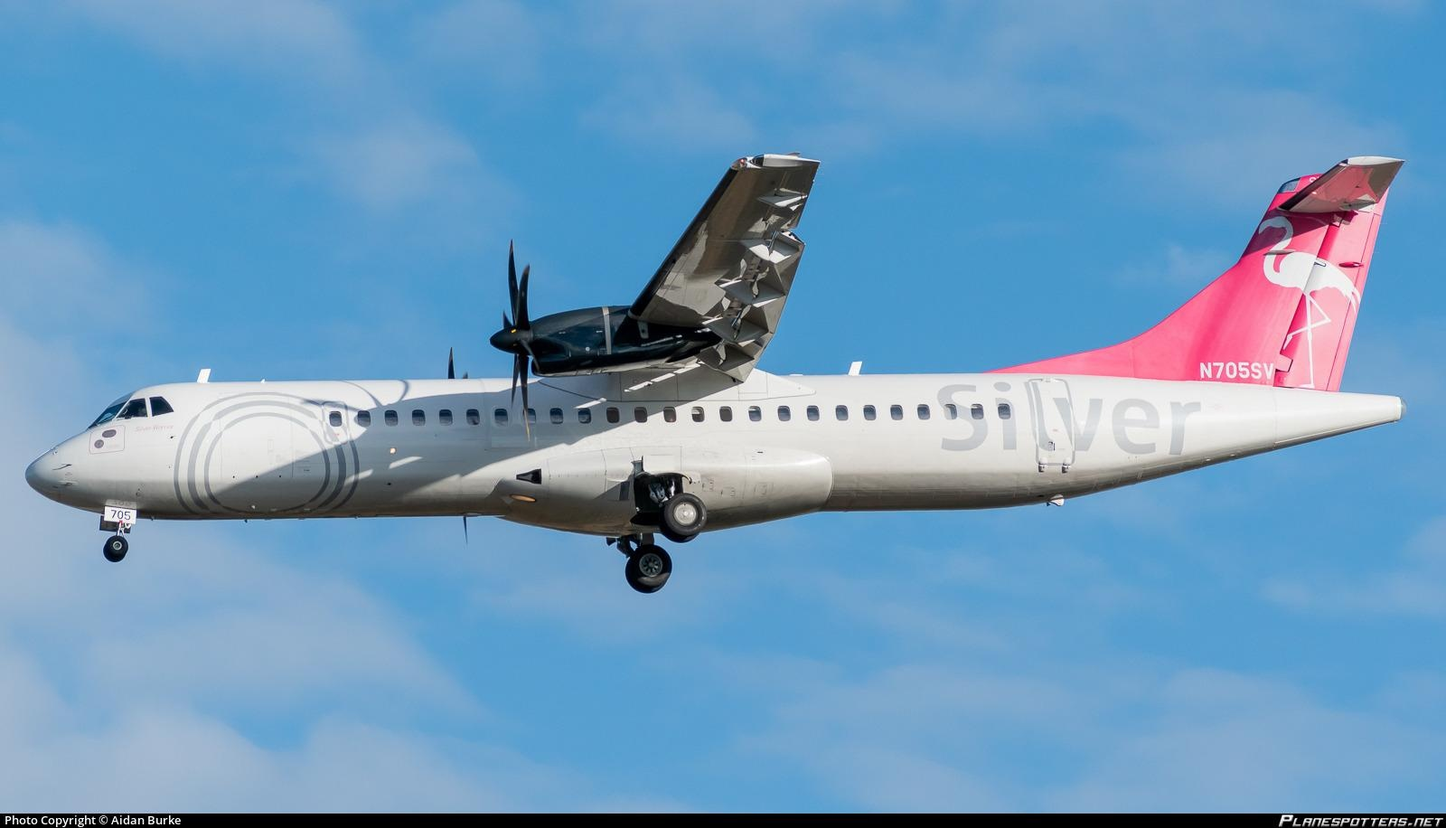aircraft: (35, 140, 1435, 594)
